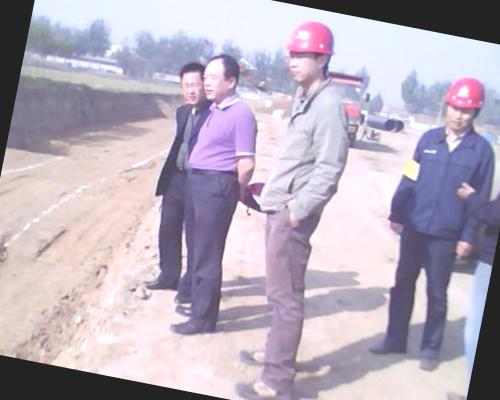no_helmet: (196, 48, 244, 107), (168, 54, 211, 105)
